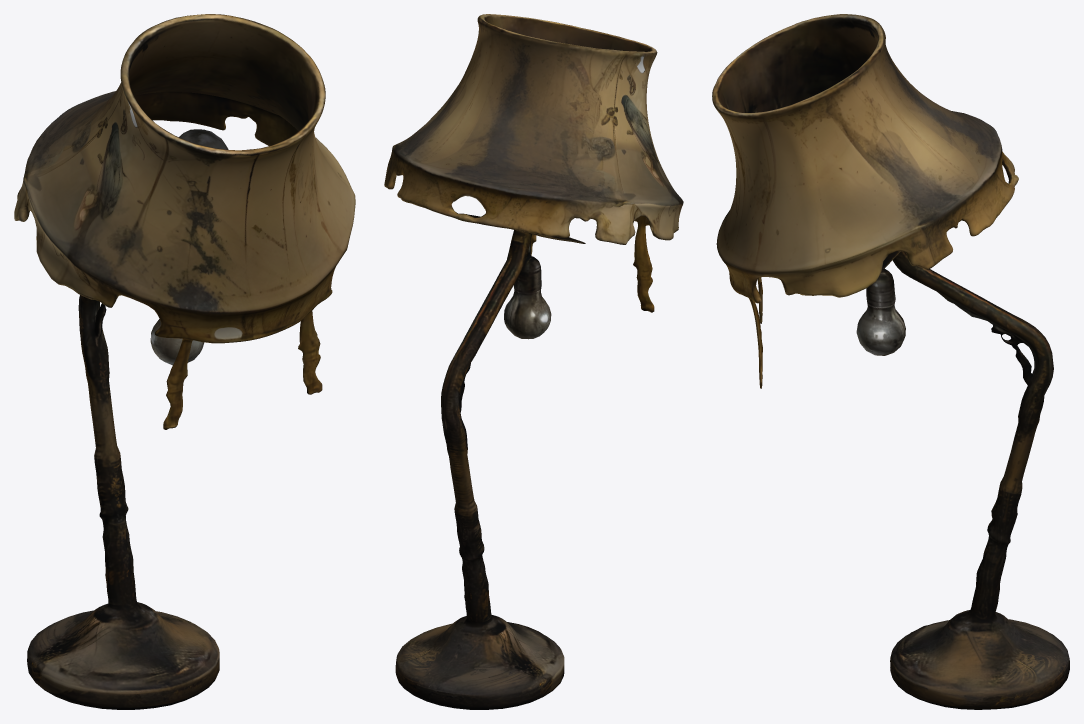
The model's file is base_basic_pbr.fbx.
3 views of the same model, side by side, from view 1: azimuth 30°, elevation 25°; view 2: azimuth 150°, elevation 25°; view 3: azimuth 270°, elevation 25° (orthographic). The views are drawn at different scales.
Visible parts, largest first — view 1: model; view 2: model; view 3: model.
Boxes of the visible parts, x1,y1,x2,y2 form: model: (14,14,355,709); model: (384,14,683,709); model: (712,14,1069,709).
Size of the model in its own units: 80.12 by 182 by 92.02.
1 material, 1 textured.
